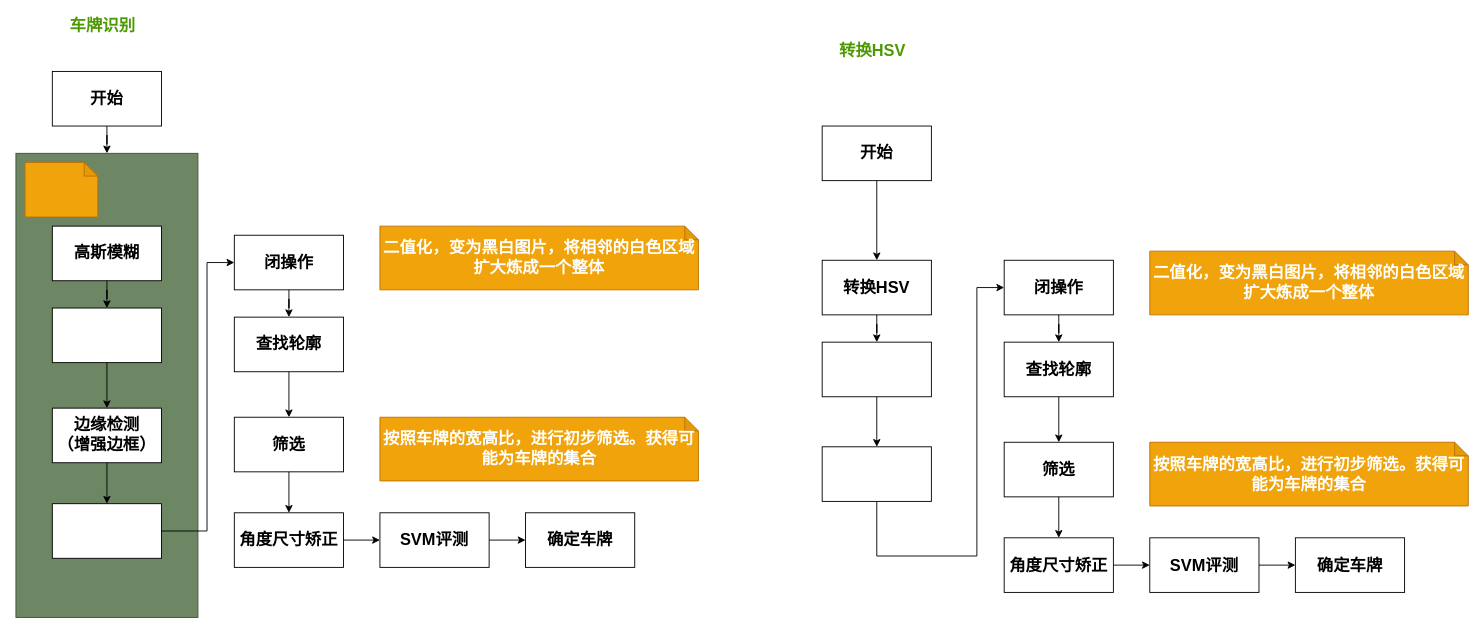
Image size: 1484x633. Some labels were removed from this diagram. The shapes that lost their labels are listed below. From the top down, each one's centre as x and y in pixels, then its label:
At (61,189): "去噪".
At (106,335): "灰度化".
At (876,369): "颜色匹配".
At (876,473): "分离HSV （S为二值图像）".
At (106,530): "二值化".
